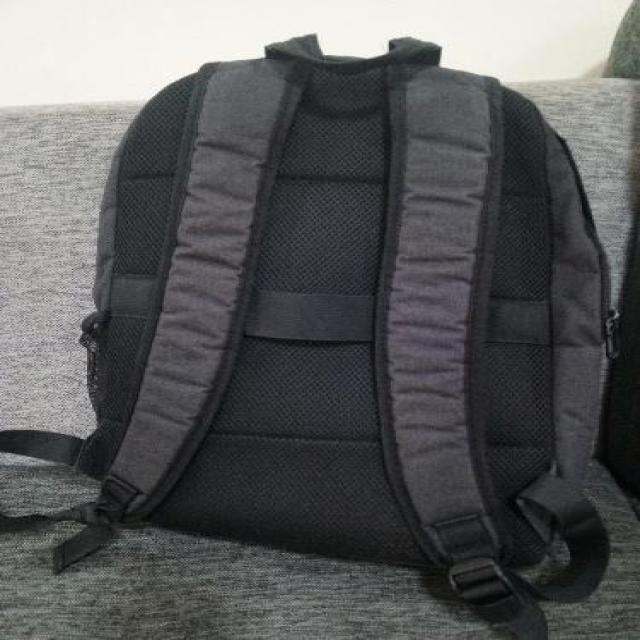canta: (1, 33, 620, 638)
